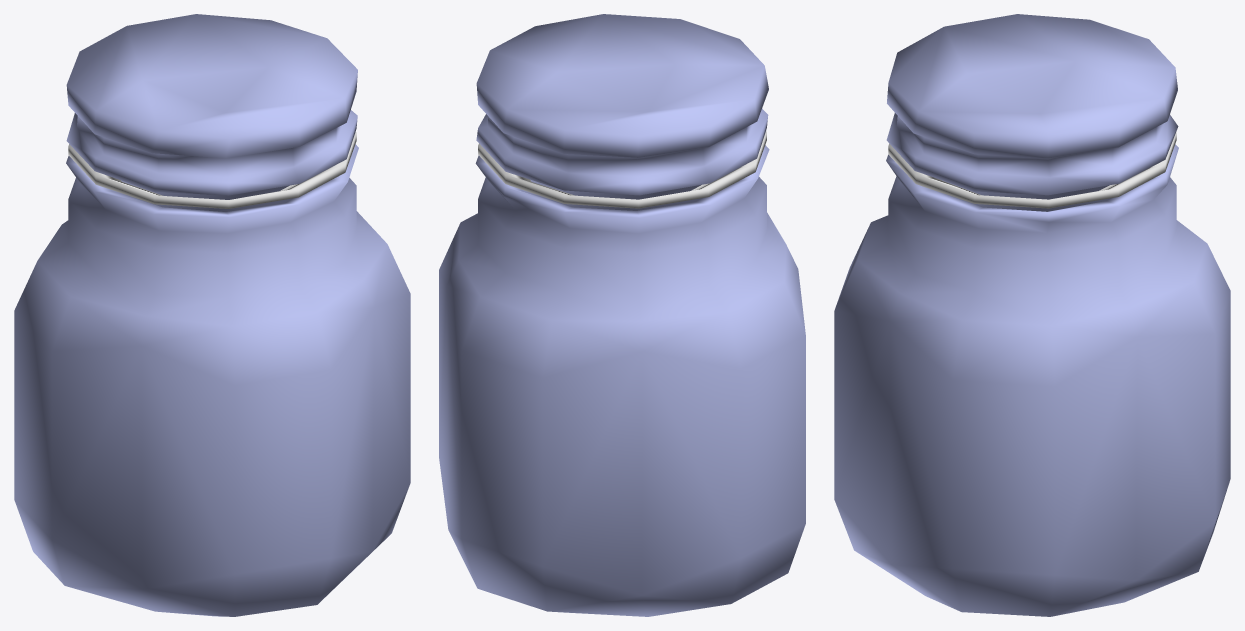
File: eye.fbx
3 renders of one model, left to right at view 1: azimuth 30°, elevation 25°; view 2: azimuth 150°, elevation 25°; view 3: azimuth 270°, elevation 25°, orthographic.
Visible parts, largest first — view 1: kitchen.preserving.jar.small; view 2: kitchen.preserving.jar.small; view 3: kitchen.preserving.jar.small.
Part boxes in pixels (bbox=[...]): kitchen.preserving.jar.small: bbox=[14, 14, 410, 616]; kitchen.preserving.jar.small: bbox=[439, 14, 805, 616]; kitchen.preserving.jar.small: bbox=[834, 14, 1230, 616].
Size of the model in its own units: 360 by 485 by 360.
